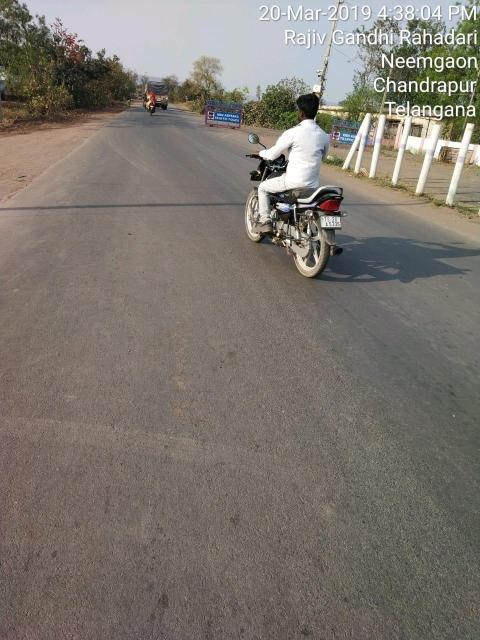motor: (243, 132, 347, 282)
non-helm: (296, 93, 323, 121)
